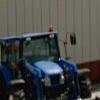Tractor: (4, 26, 95, 100)
